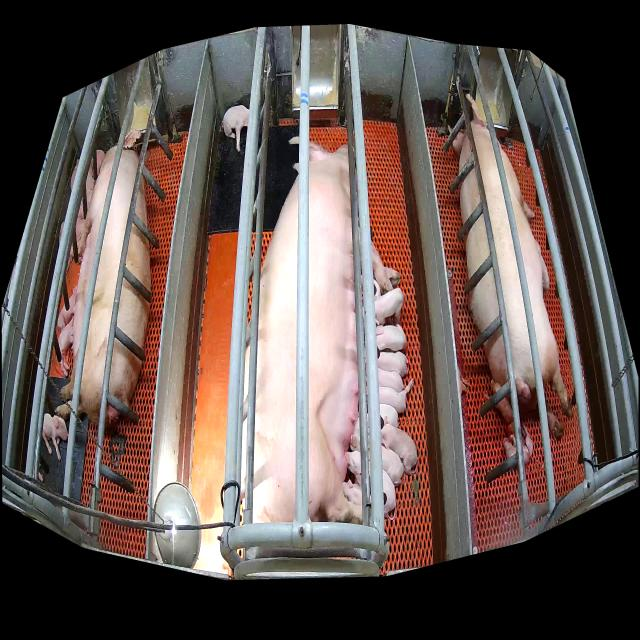pig: (241, 139, 401, 523), (452, 94, 573, 417), (56, 129, 151, 428), (346, 451, 396, 520), (350, 432, 404, 484), (381, 416, 417, 475), (484, 380, 513, 425), (222, 105, 249, 151), (43, 414, 68, 460), (379, 379, 413, 412), (504, 426, 533, 464), (374, 288, 404, 324), (58, 316, 74, 377), (58, 286, 77, 330), (376, 325, 406, 351), (378, 352, 408, 377), (378, 368, 405, 392), (536, 241, 549, 289), (342, 480, 362, 507), (380, 404, 398, 428)
